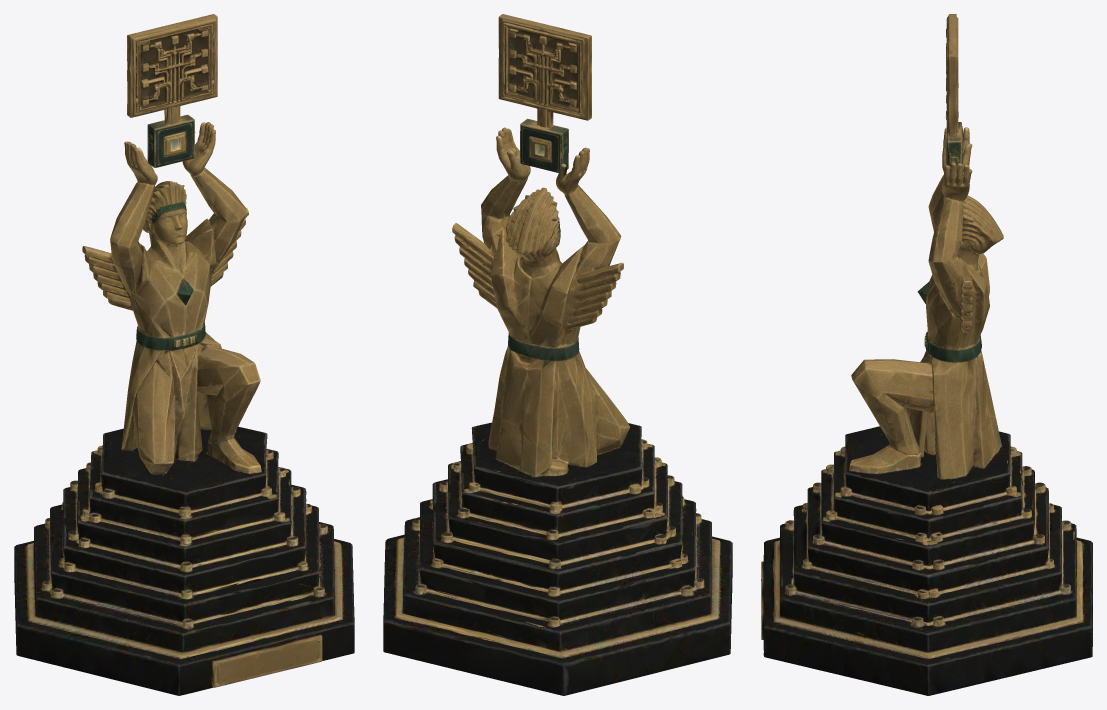
Rendered from innovation.glb.
3 views of the same model, side by side, from view 1: azimuth 30°, elevation 25°; view 2: azimuth 150°, elevation 25°; view 3: azimuth 270°, elevation 25° (orthographic). The views are drawn at different scales.
Parts seen in each view (by area): view 1: Mesh_0.001; view 2: Mesh_0.001; view 3: Mesh_0.001.
Boxes of the visible parts, bbox=[...] form: Mesh_0.001: bbox=[14, 14, 354, 695]; Mesh_0.001: bbox=[383, 14, 732, 695]; Mesh_0.001: bbox=[761, 14, 1092, 695].
Bounding box in the file's own units: 7.27 × 12 × 6.22.
1 material, 1 textured.
